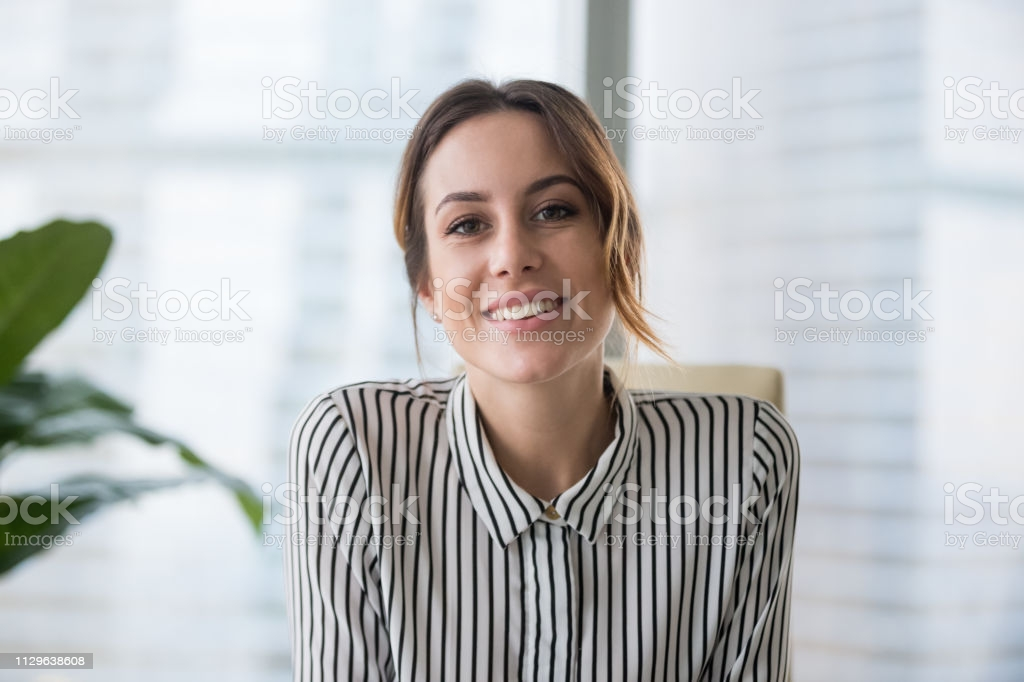Without Helmet: (381, 68, 676, 396)
